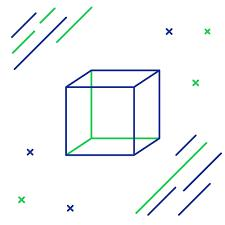cubos: (62, 66, 164, 158)
